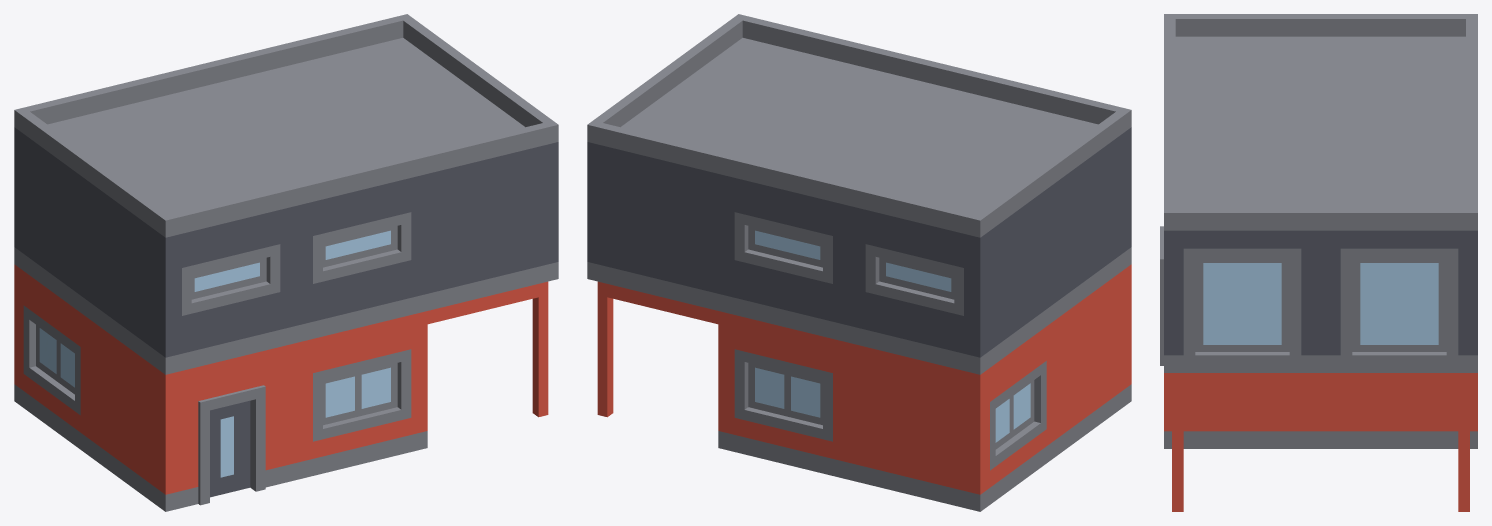
File: House Type 20.glb
3 views of the same model, side by side, from view 1: azimuth 30°, elevation 25°; view 2: azimuth 150°, elevation 25°; view 3: azimuth 270°, elevation 25° (orthographic). The views are drawn at different scales.
Visible parts, largest first — view 1: house_type20; view 2: house_type20; view 3: house_type20.
Boxes of the visible parts, box(x1,y1,x2,y2) form: house_type20: box(14, 14, 558, 511); house_type20: box(587, 14, 1131, 511); house_type20: box(1160, 14, 1477, 511).
Size of the model in its own units: 1.2 by 0.85 by 0.81.
